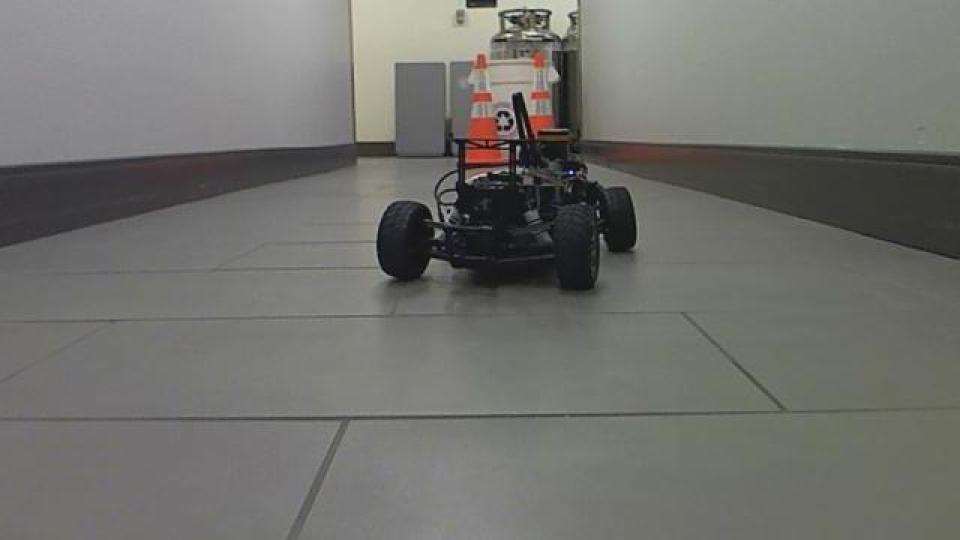car: (372, 90, 639, 292)
